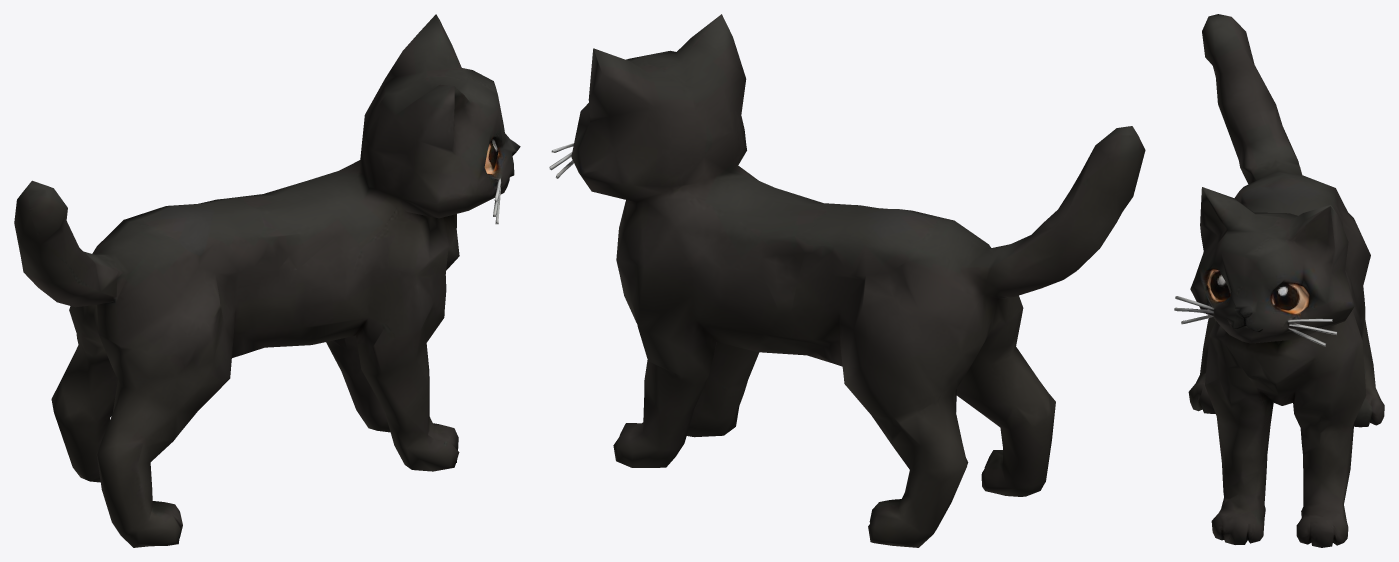
The model's file is PINROW-lo.glb.
3 views of the same model, side by side, from view 1: azimuth 30°, elevation 25°; view 2: azimuth 150°, elevation 25°; view 3: azimuth 270°, elevation 25° (orthographic). The views are drawn at different scales.
Parts seen in each view (by area): view 1: tripo_node_7f9668f4-f463-4099-8c25-001d2797edbe; view 2: tripo_node_7f9668f4-f463-4099-8c25-001d2797edbe; view 3: tripo_node_7f9668f4-f463-4099-8c25-001d2797edbe.
Part boxes in pixels (left/top/right/bottom): tripo_node_7f9668f4-f463-4099-8c25-001d2797edbe: left=14, top=14, right=520, bottom=547; tripo_node_7f9668f4-f463-4099-8c25-001d2797edbe: left=549, top=14, right=1145, bottom=547; tripo_node_7f9668f4-f463-4099-8c25-001d2797edbe: left=1174, top=14, right=1384, bottom=547.
Size of the model in its own units: 1.36 by 1 by 0.5359.
Materials: 1 (1 with a texture image).
